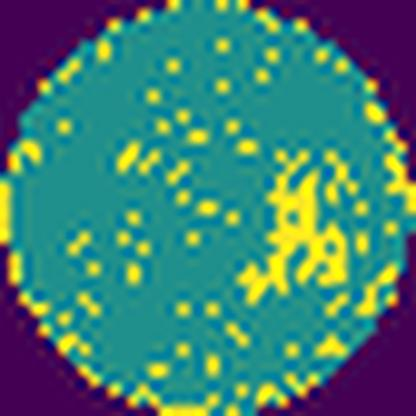Loc: (235, 147, 349, 307)
